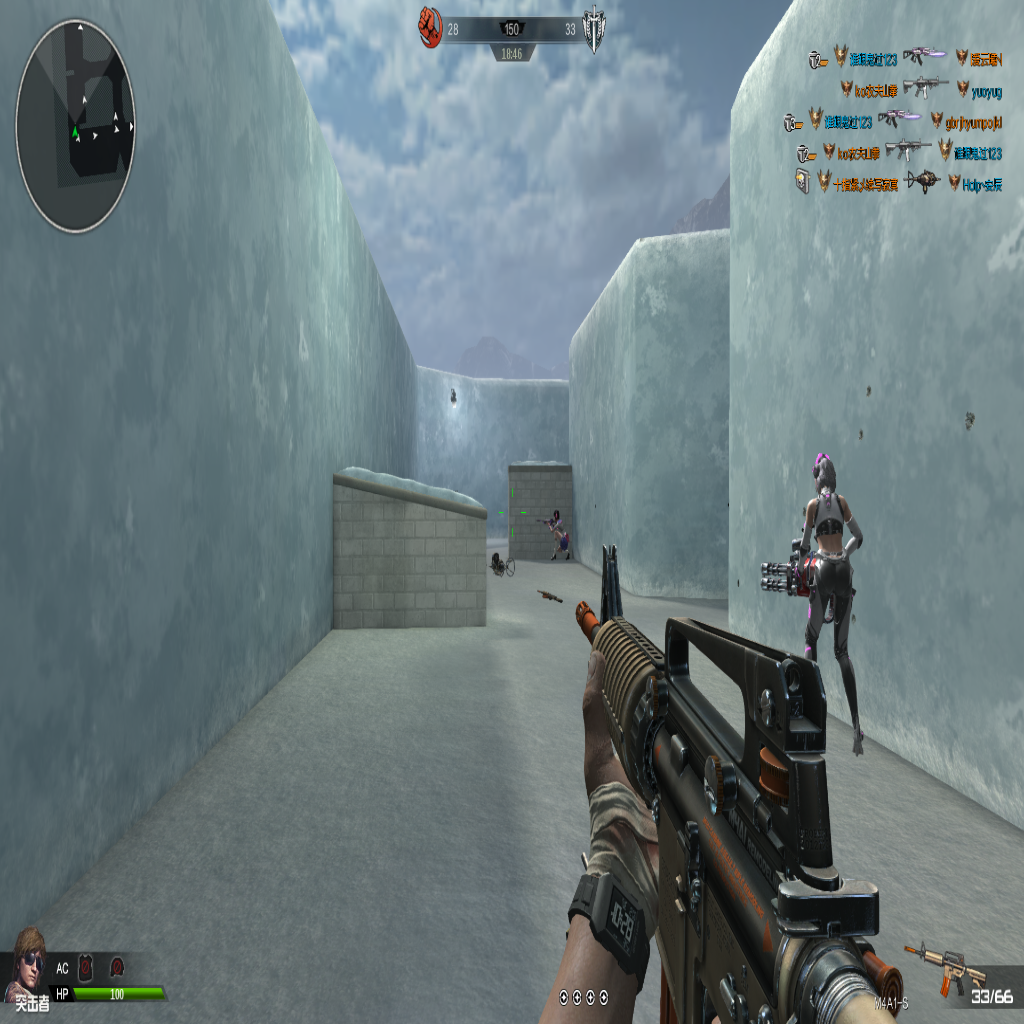tt: (542, 508, 570, 562)
